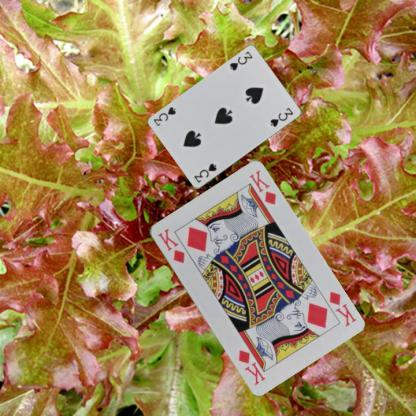3s: (191, 161, 218, 184), (227, 49, 254, 72)
Kd: (317, 288, 358, 328), (155, 225, 186, 265)
